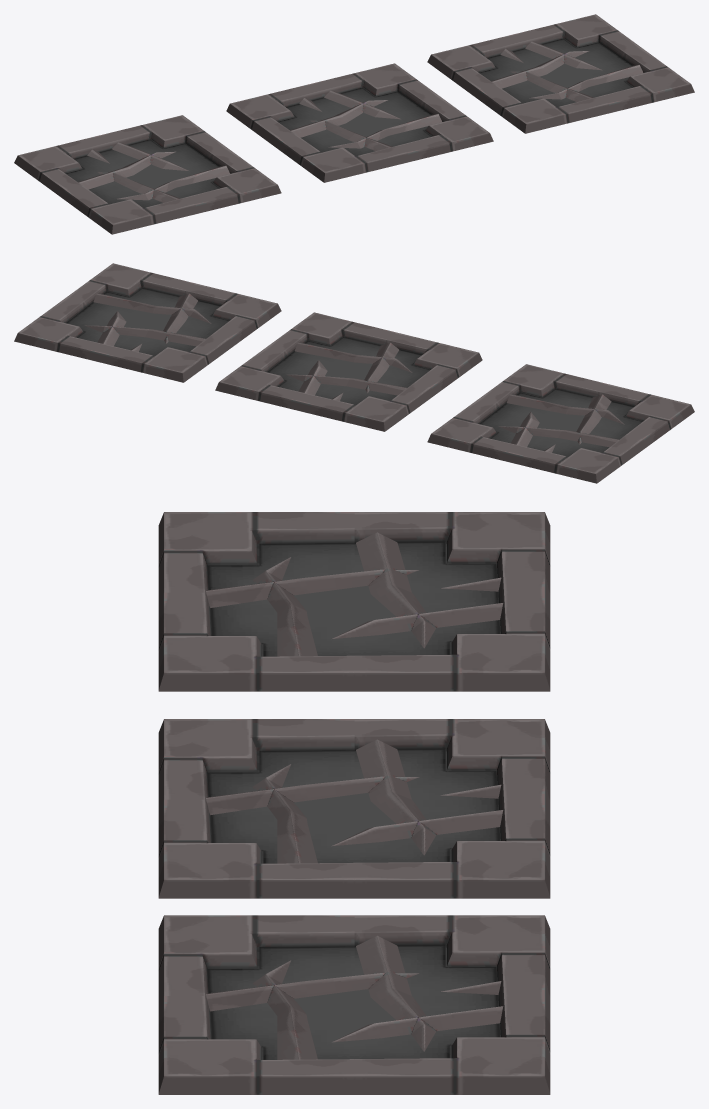
File: xianjing.fbx
The picture shows the model from 3 angles, top to bottom: view 1: azimuth 30°, elevation 25°; view 2: azimuth 150°, elevation 25°; view 3: azimuth 270°, elevation 25°; orthographic projection. The views are drawn at different scales.
Parts seen in each view (by area): view 1: penhuo_cool (×3); view 2: penhuo_cool (×3); view 3: penhuo_cool (×3).
Boxes of the visible parts, bbox=[...] form: penhuo_cool (×3): bbox=[14, 14, 694, 234]; penhuo_cool (×3): bbox=[14, 263, 694, 483]; penhuo_cool (×3): bbox=[158, 512, 550, 1094].
Size of the model in its own units: 6.87 by 0.0909 by 2.
